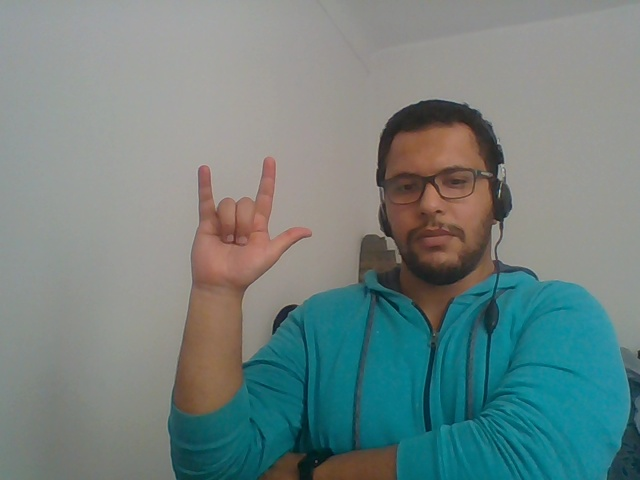iloveyou: (155, 140, 319, 341)
